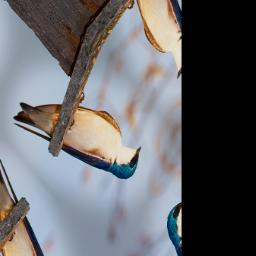Swallow: (10, 42, 147, 231)
